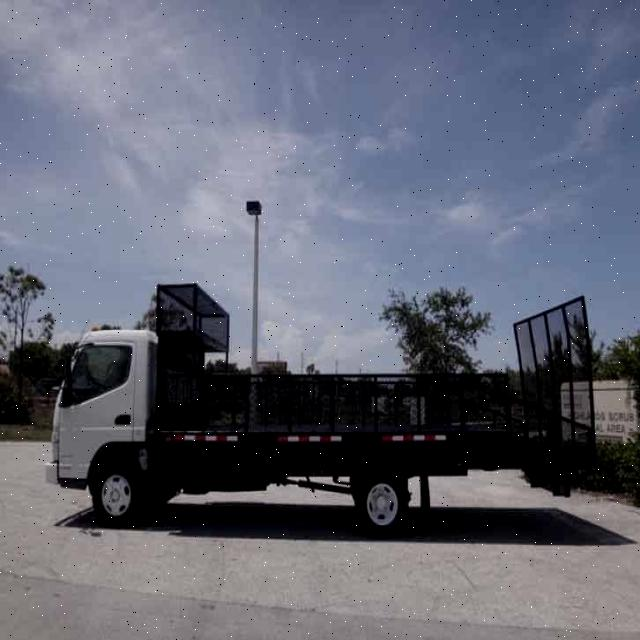truck: (45, 289, 599, 525)
